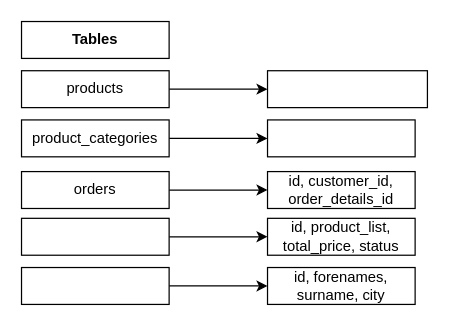
Some shapes in this 449 by 326 pixel diagram are drawn without their labels. Here are the shapes that lost their labels. From the top down, the centre of each, then its label:
the point at 346,88: id, name, category_id, price, imageid
the point at 340,138: id, name, description
the point at 94,236: order_details
the point at 94,285: customers
